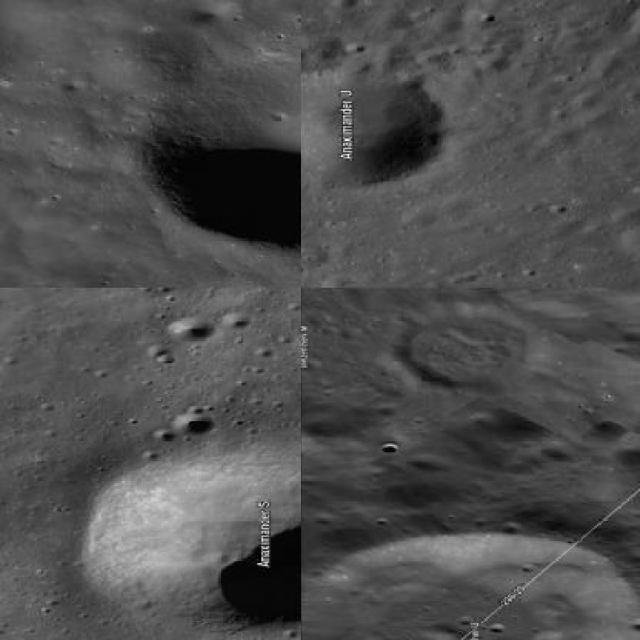crater: (84, 438, 298, 634), (136, 8, 298, 252), (300, 532, 638, 638), (300, 66, 448, 191), (168, 315, 217, 340), (174, 411, 214, 435), (222, 310, 249, 328)
